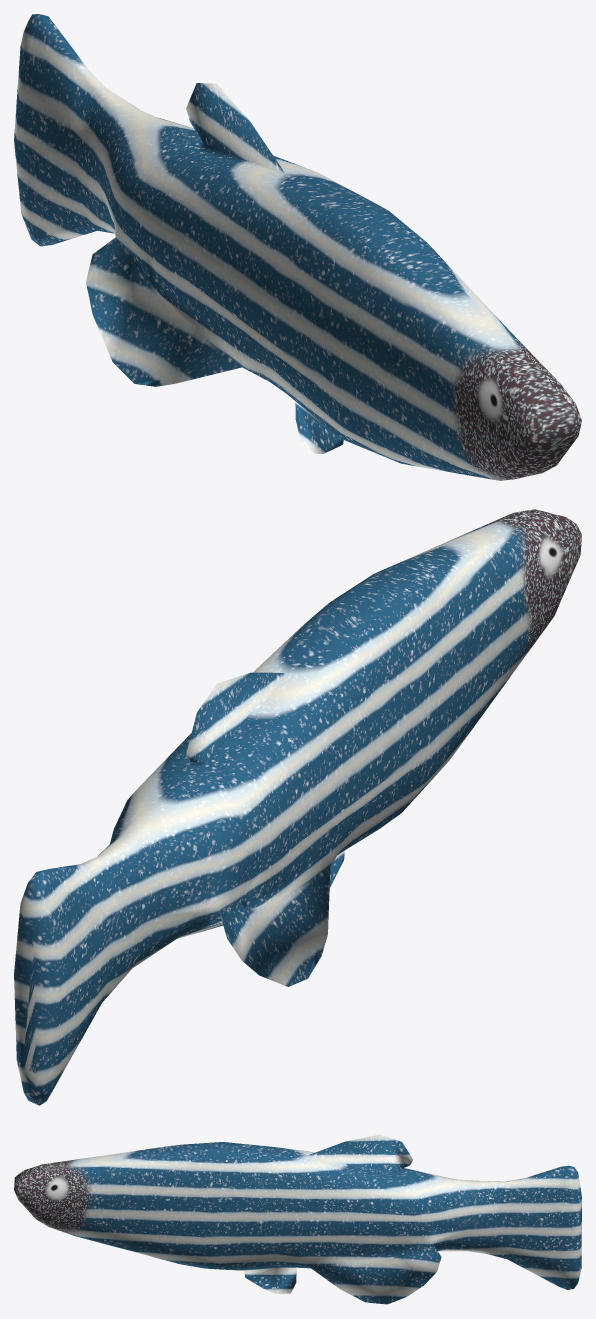
Rendered from zebra danio LP.fbx.
The picture shows the model from 3 angles, top to bottom: view 1: azimuth 30°, elevation 25°; view 2: azimuth 150°, elevation 25°; view 3: azimuth 270°, elevation 25°; orthographic projection. The views are drawn at different scales.
Parts seen in each view (by area): view 1: zebra danio.LP; view 2: zebra danio.LP; view 3: zebra danio.LP.
Boxes of the visible parts, x1=… form: zebra danio.LP: x1=14, y1=14, x2=581, y2=480; zebra danio.LP: x1=14, y1=509, x2=581, y2=1105; zebra danio.LP: x1=14, y1=1134, x2=581, y2=1304.
Bounding box in the file's own units: 3.66 × 5.94 × 19.16.
